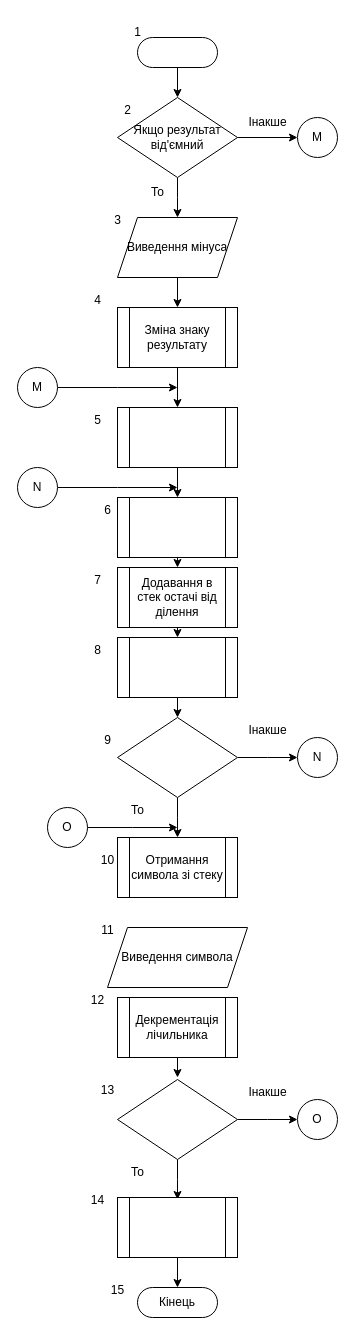
Image size: 355x1335. Some labels were removed from this diagram. Here are the shapes that lost their labels. From the top down, the centre of each, then its label:
At point (177, 52): "Початок".
At point (177, 437): "Обнулення лічильника".
At point (177, 527): "Ділення результату на 10".
At point (177, 667): "Інкрементація лічильника".
At point (177, 757): "Якщо число = 0".
At point (177, 1119): "Якщо лічильник = 0".
At point (177, 1227): "Завершення процедури".
